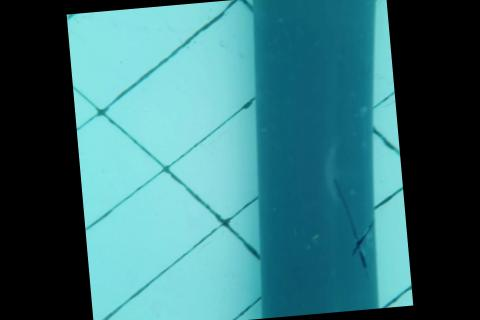keretakan: (336, 181, 376, 269)
